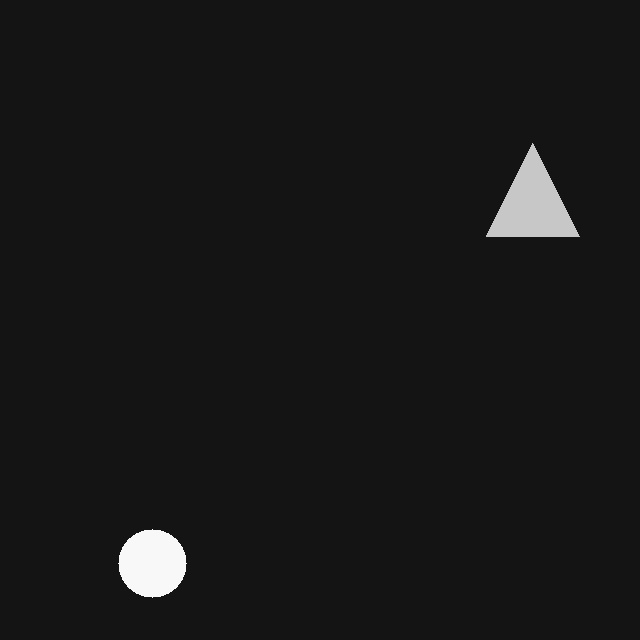circle: (118, 529, 186, 597)
triangle: (486, 143, 579, 236)
